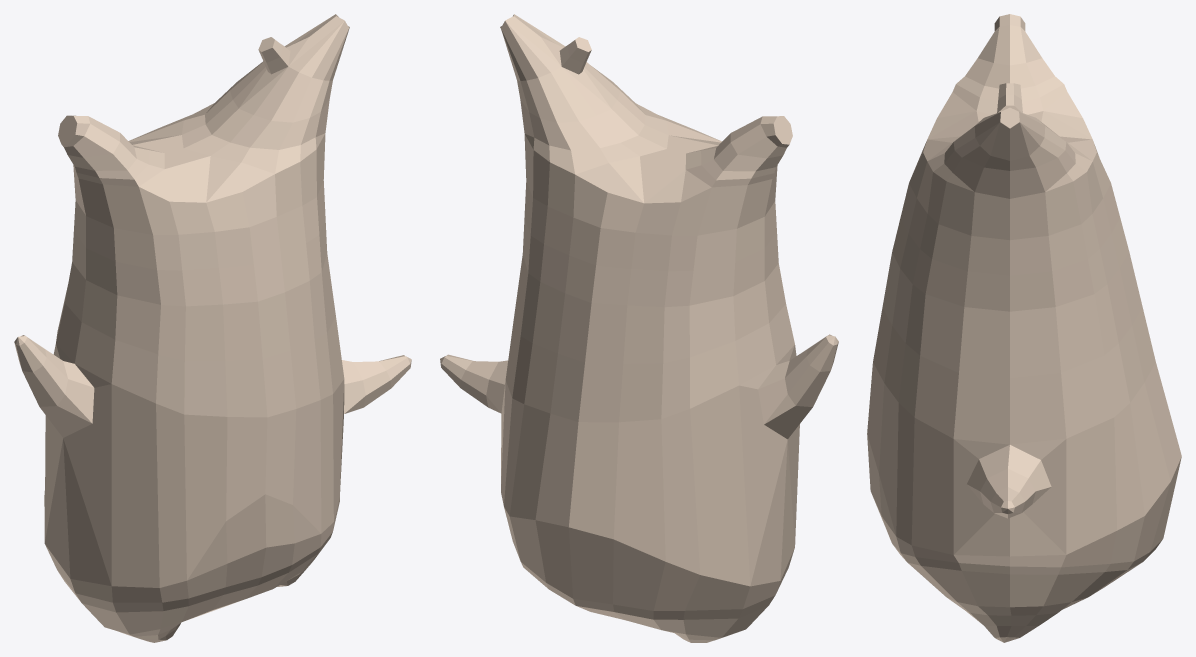
Rendered from frame_0133.obj.
The picture shows the model from 3 angles, left to right: view 1: azimuth 30°, elevation 25°; view 2: azimuth 150°, elevation 25°; view 3: azimuth 270°, elevation 25°; orthographic projection.
Visible parts, largest first — view 1: korok; view 2: korok; view 3: korok.
Part boxes in pixels (x1,y1,x2,y2): korok: (14, 14, 411, 642); korok: (440, 14, 838, 642); korok: (867, 14, 1181, 642).
Size of the model in its own units: 1.57 by 2.19 by 1.07.
